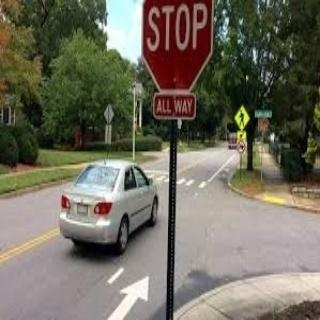sign_stop: (140, 0, 215, 91)
